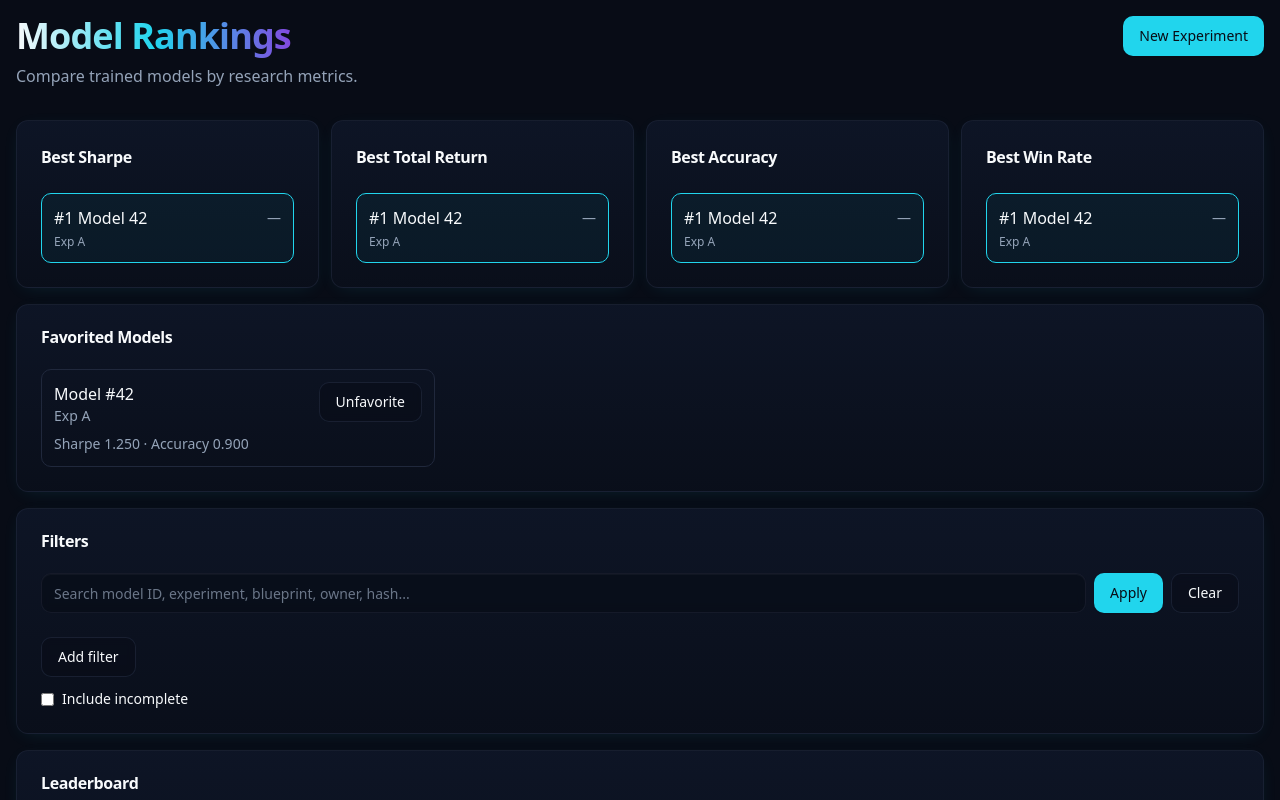
Test case: model views › limits filter operators by column type and resets invalid operators
Click the button "Add filter". click: (88, 657)
box: [41, 637, 136, 677]
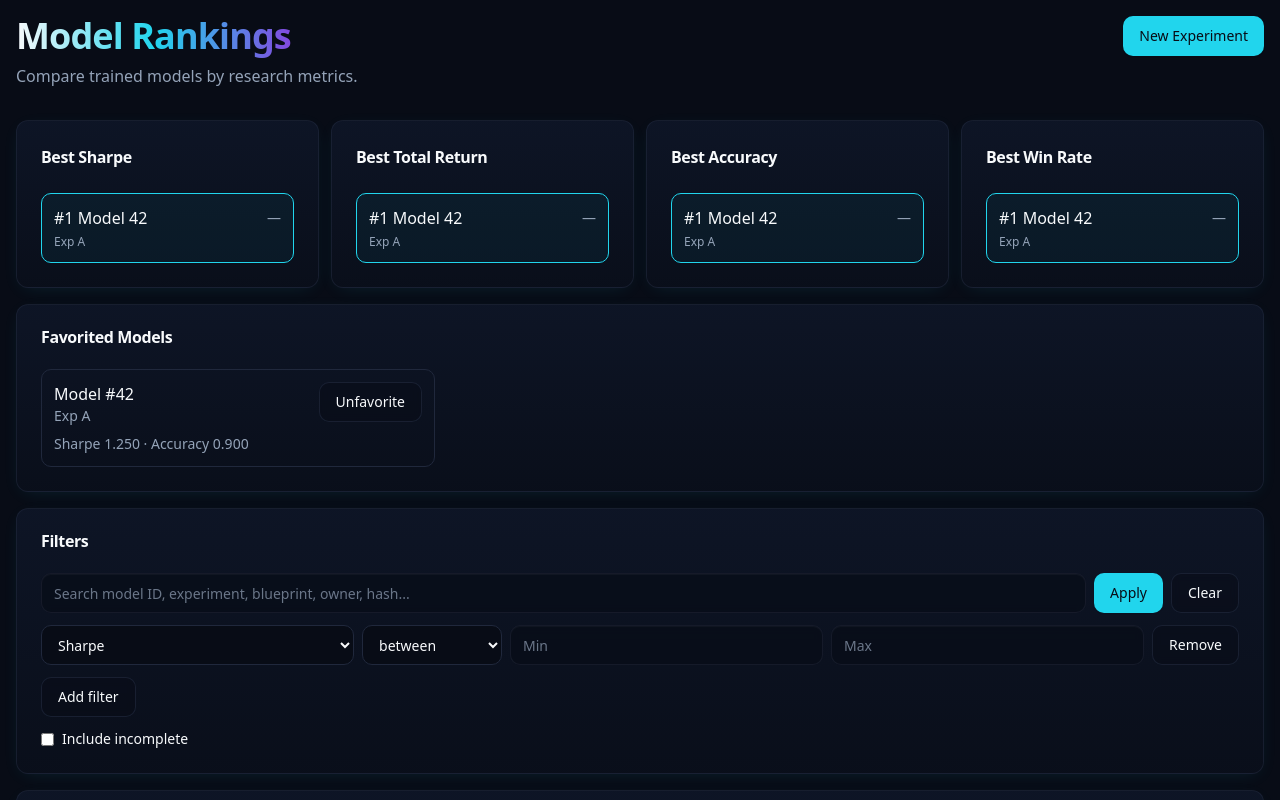
Select "Owner" in the dropdown named "Filter column". click: (198, 645)
box: [41, 625, 354, 665]
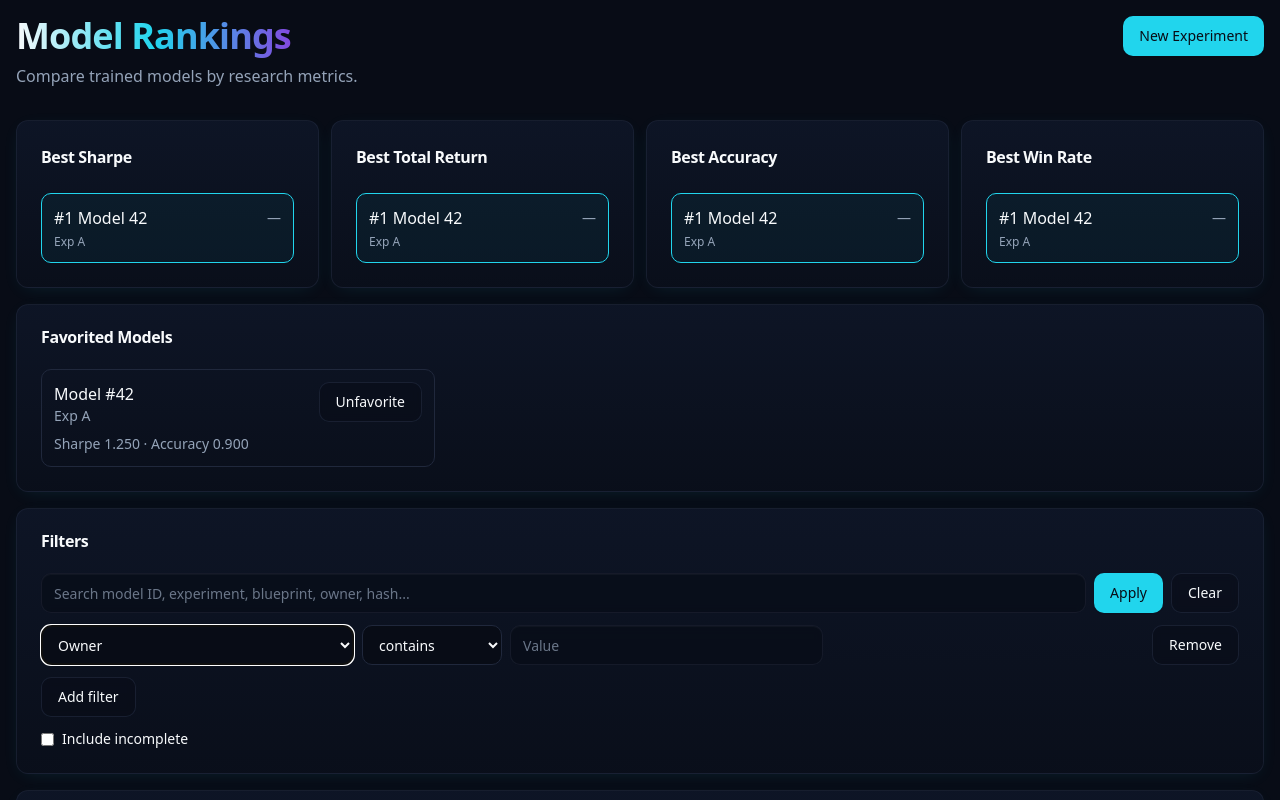
Expected: the option "between" is not shown
Select "Total Return" in the dropdown named "Filter column". click: (198, 645)
box: [41, 625, 354, 665]
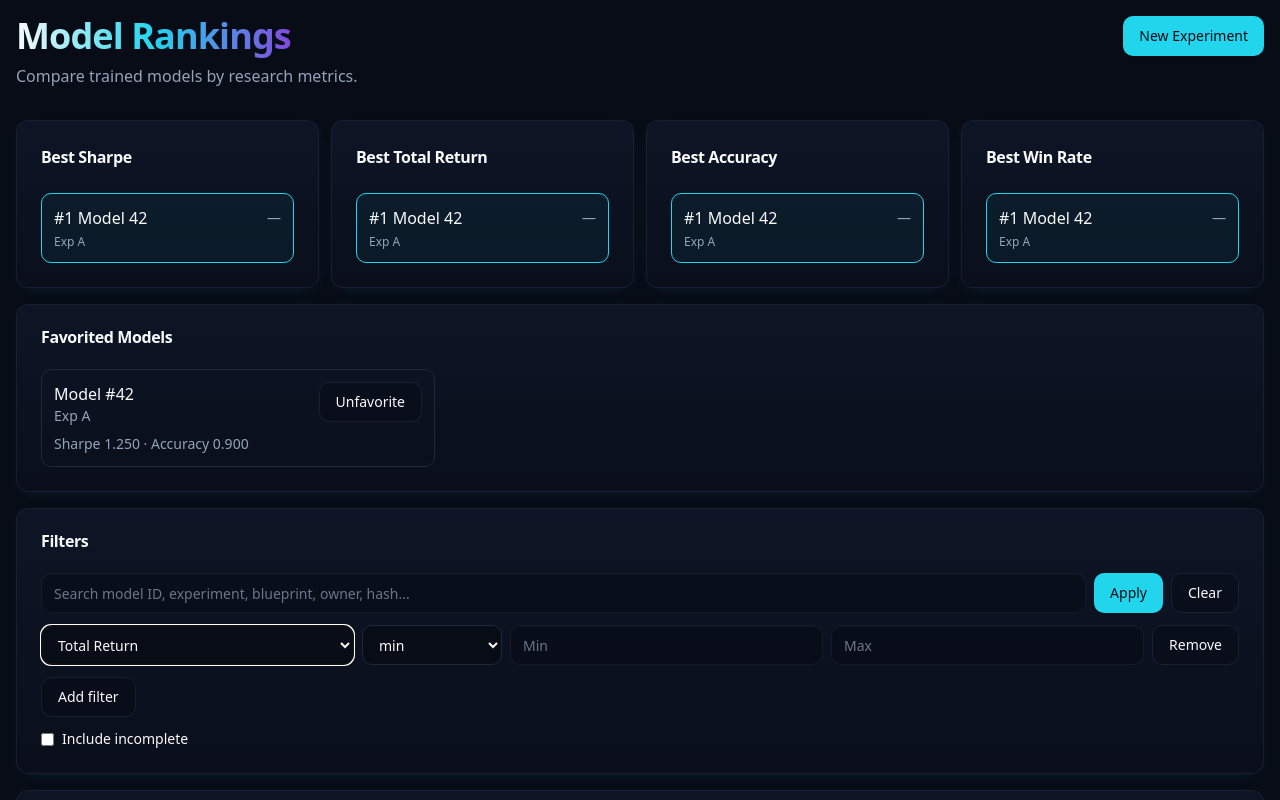
Expected: the option "contains" is not shown
Expected: the dropdown named "Filter operator" shows "min", [362, 625, 502, 665]
Select "Model ID" in the dropdown named "Filter column". click: (198, 645)
box: [41, 625, 354, 665]
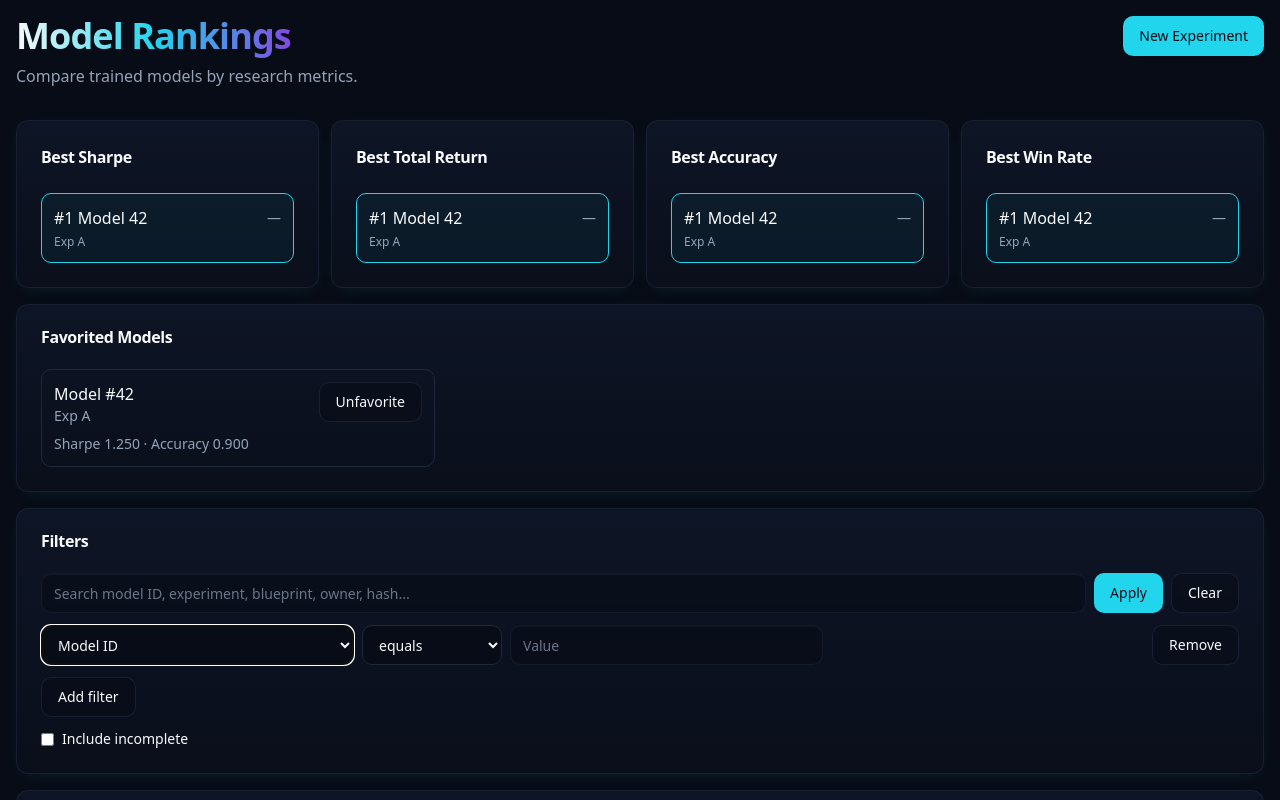
Expected: the option "between" is not shown
Expected: the dropdown named "Filter operator" shows "equals", [362, 625, 502, 665]
